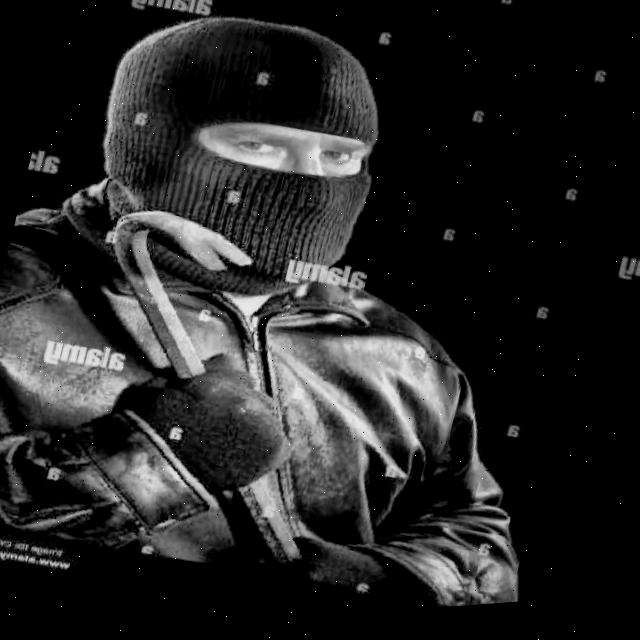robbery: (0, 5, 525, 605)
